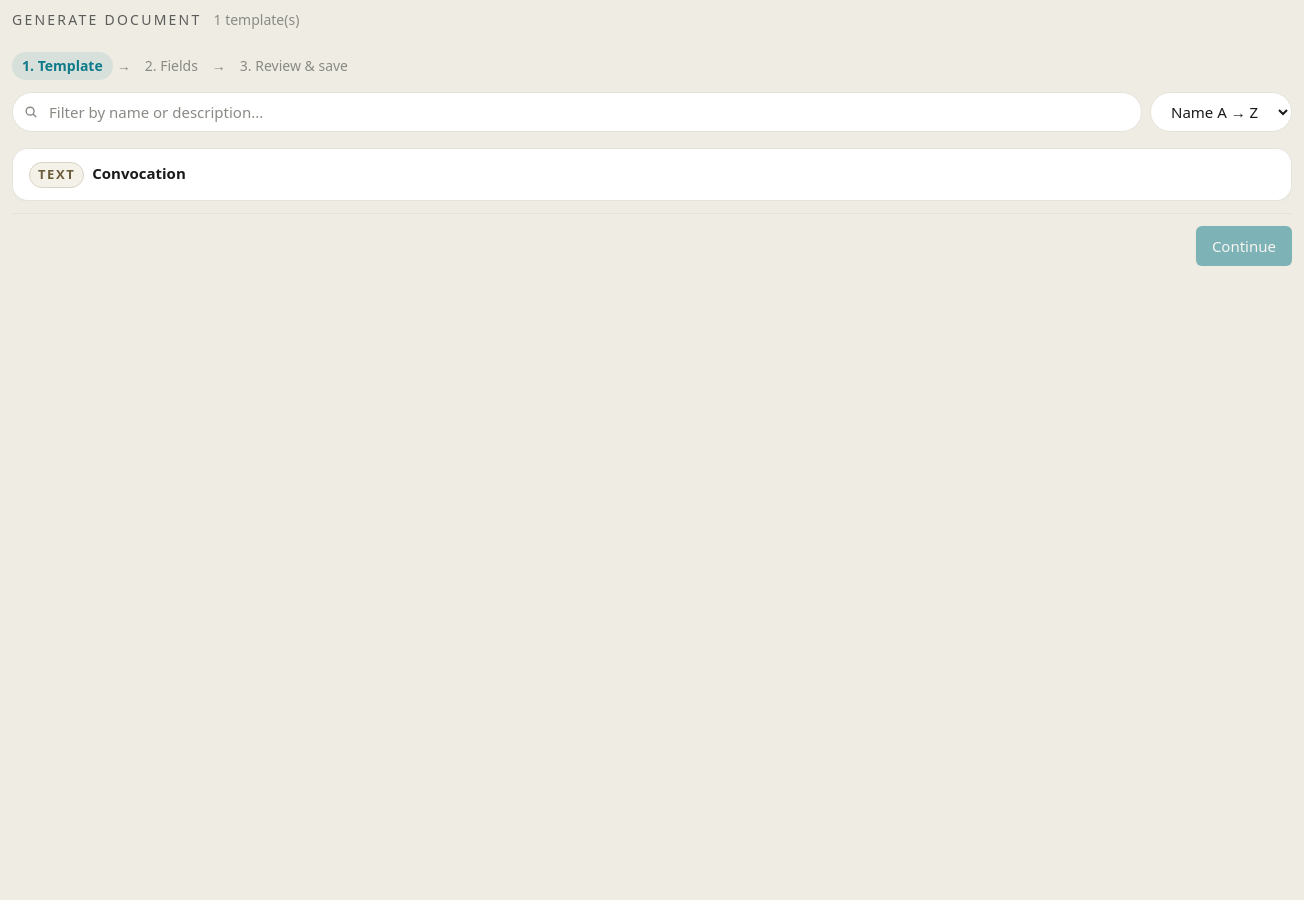
Test case: GenerateDocumentPanel › builds a preview draft for a text template
Click the button "TEXT Convocation".
click(57, 175)  # box [13,149,1291,200]
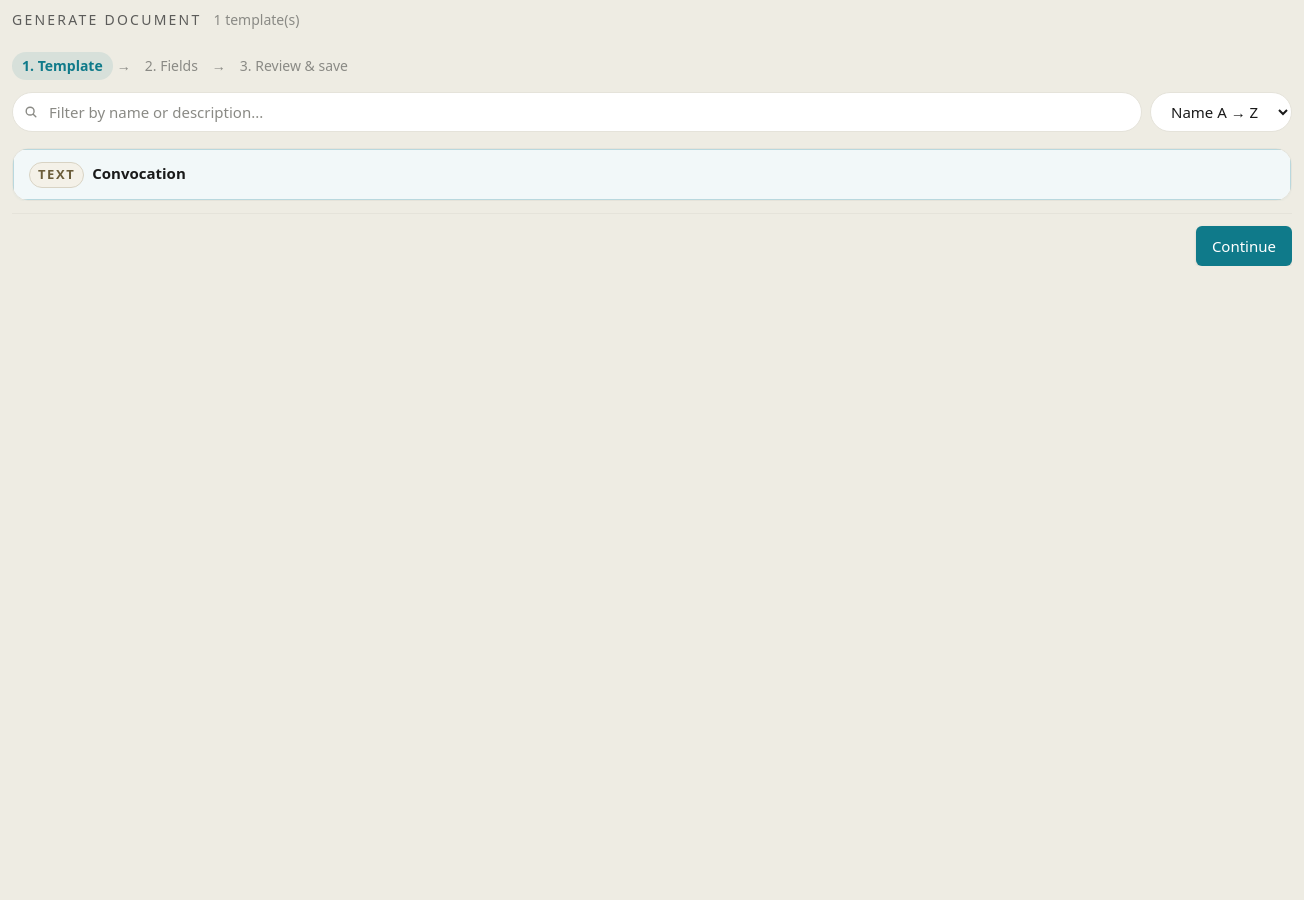
Click the button "Continue".
click(1244, 246)  # box [1196,226,1292,266]
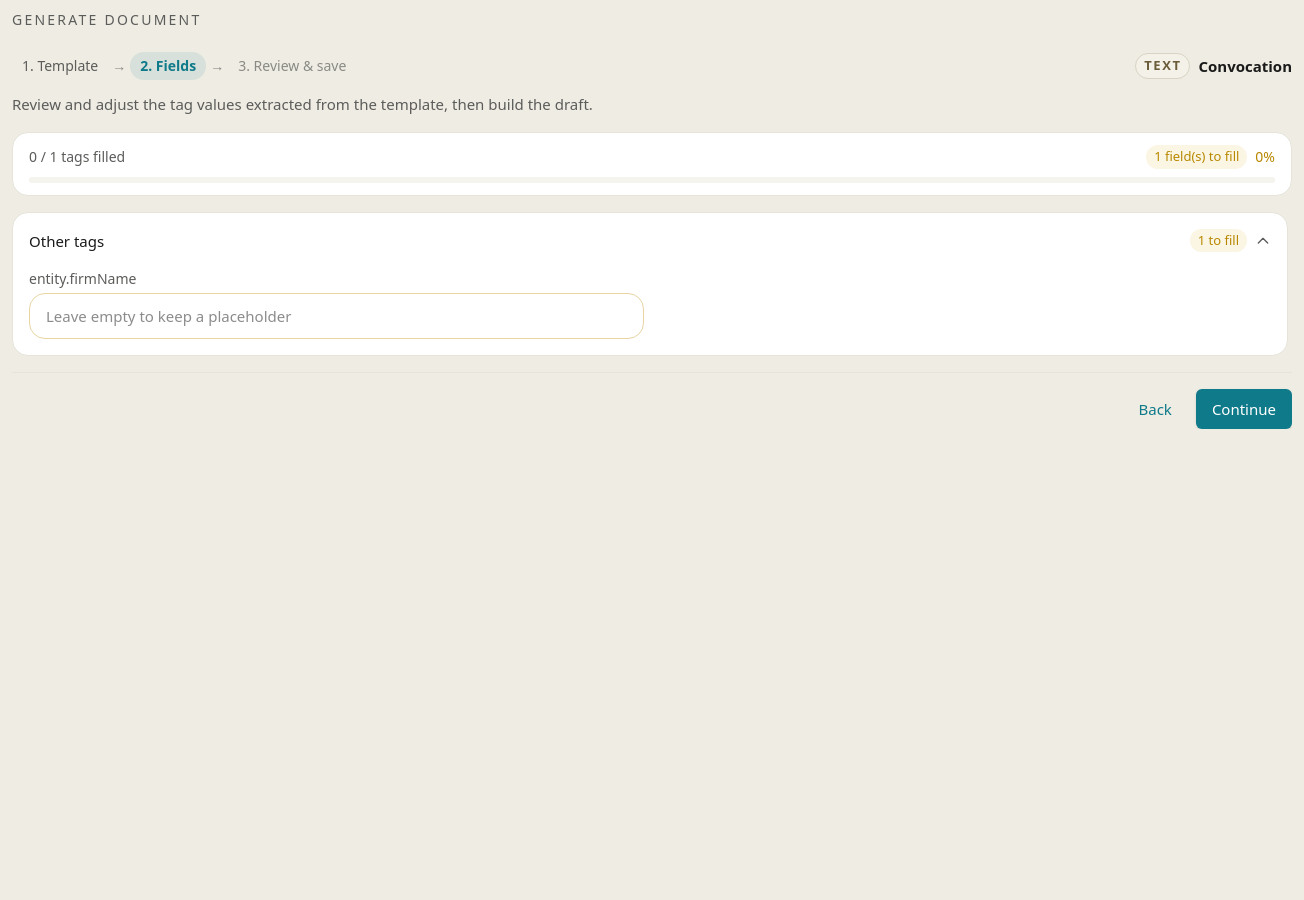
Result: the text "Review and adjust the tag values extracted from the template, then build the draft." is shown at [12,94,593,114]
Click the button "Continue".
click(1244, 408)  # box [1196,388,1292,428]
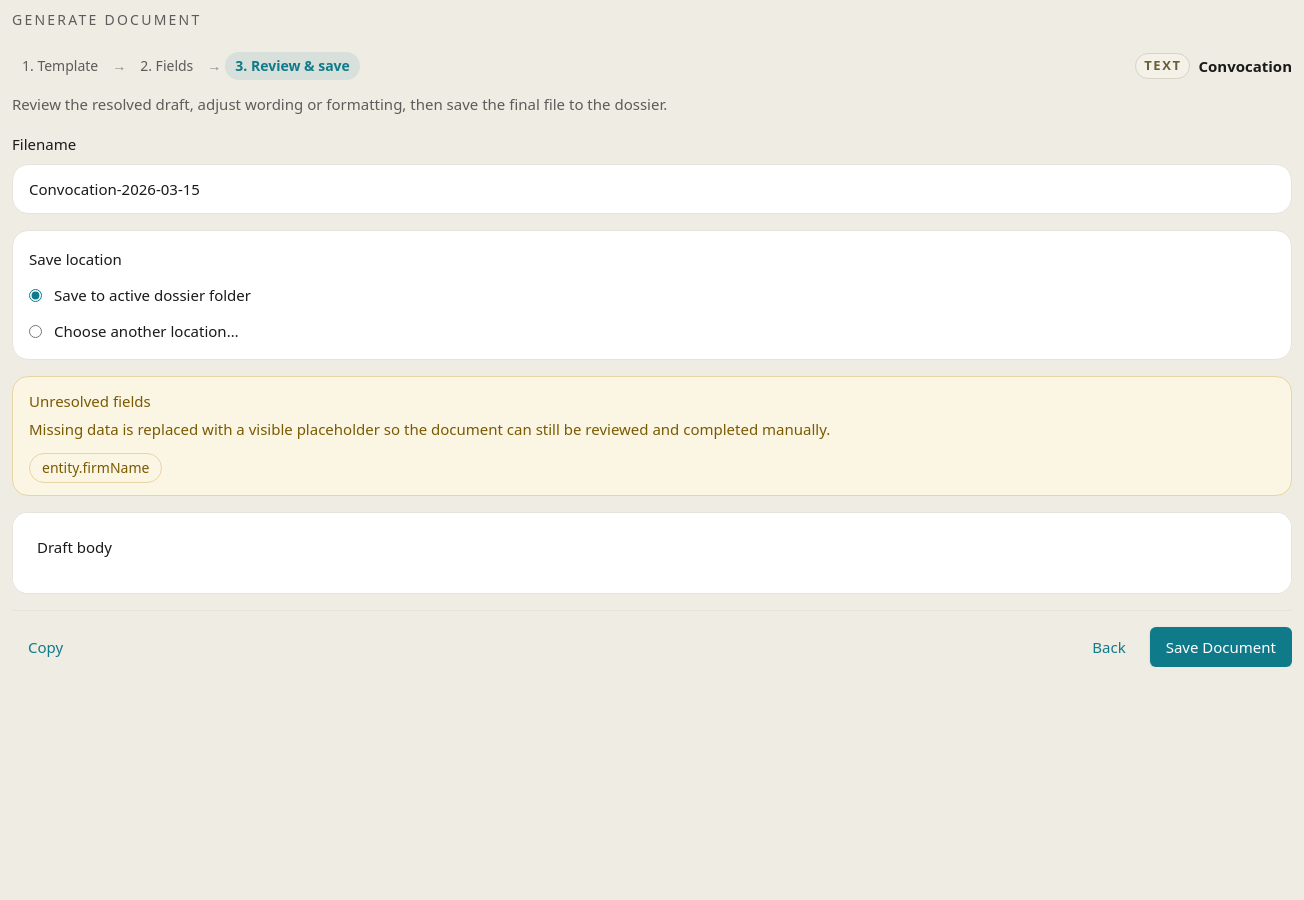
Result: the text "Unresolved fields" is shown at [29,391,151,411]
Result: the button "Copy" is shown at [12,627,79,667]
Result: the button "Save Document" is shown at [1150,627,1292,667]
